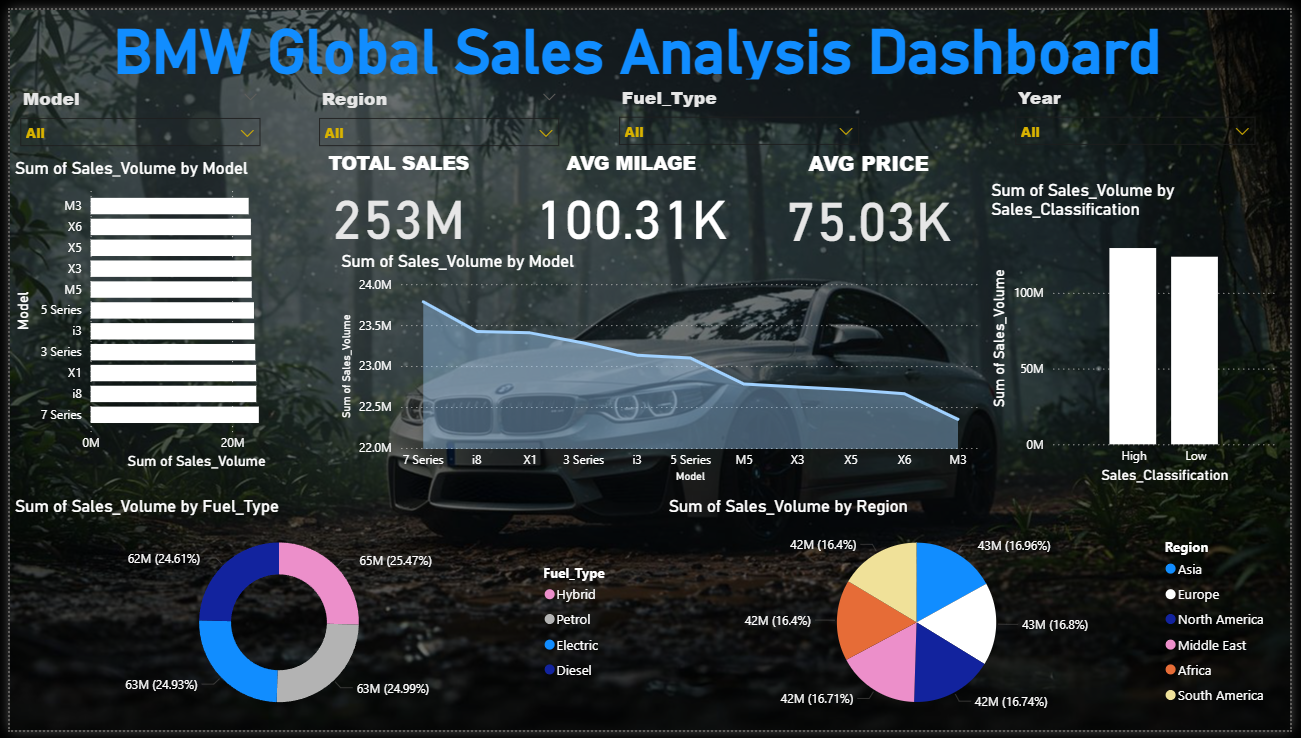

Layout of this report page (visuals, bound fields, positions):
{"tool":"powerbi","page":{"name":"Page 1","canvas":[1280,720],"ordinal":0},"visuals":[{"type":"barChart","fields":{"Category":["BMW sales data_2020 24.Model"],"Y":["Sum(BMW sales data_2020 24.Sales_Volume)"]},"box":[0,147.1,310,317.1],"z":0},{"type":"areaChart","fields":{"Category":["BMW sales data_2020 24.Model"],"Y":["Sum(BMW sales data_2020 24.Sales_Volume)"]},"box":[326.7,241.7,648.3,236.7],"z":1000},{"type":"pieChart","fields":{"Category":["BMW sales data_2020 24.Region"],"Y":["Sum(BMW sales data_2020 24.Sales_Volume)"]},"box":[653.3,486.7,615,233.3],"z":2000},{"type":"donutChart","fields":{"Category":["BMW sales data_2020 24.Fuel_Type"],"Y":["Sum(BMW sales data_2020 24.Sales_Volume)"]},"box":[0,486.7,618.3,233.3],"z":3000},{"type":"clusteredColumnChart","fields":{"Category":["BMW sales data_2020 24.Sales_Classification"],"Y":["Sum(BMW sales data_2020 24.Sales_Volume)"]},"box":[976.7,170,295,308.3],"z":4000},{"type":"slicer","fields":{"Values":["BMW sales data_2020 24.Model"]},"box":[0,71.4,260,68.6],"z":5000},{"type":"slicer","fields":{"Values":["BMW sales data_2020 24.Year"]},"box":[995,70,260,70],"z":6000},{"type":"slicer","fields":{"Values":["BMW sales data_2020 24.Region"]},"box":[298.6,71.4,260,68.6],"z":7000},{"type":"slicer","fields":{"Values":["BMW sales data_2020 24.Fuel_Type"]},"box":[598.3,70,260,70],"z":8000},{"type":"card","title":"TOTAL SALES","fields":{"Values":["BMW sales data_2020 24.TOTAL SALES"]},"box":[278.3,138.3,220,103.3],"z":9000},{"type":"card","title":"AVG MILAGE","fields":{"Values":["BMW sales data_2020 24.AVERAGE MILAGE"]},"box":[501.7,138.3,240,103.3],"z":10000},{"type":"card","title":"AVG PRICE","fields":{"Values":["BMW sales data_2020 24.AVERAGE PRICE"]},"box":[728.3,138.3,260,103.3],"z":11000},{"type":"textbox","title":"BMW Global Sales Analysis Dashboard","box":[0,6.7,1255,63.3],"z":12000}]}

Visuals, with their boxes in screenshot pixels (x1, y1, x2, y2), scaled from the page's 1280x720 canvas onto the 1301x738 screenshot:
barChart - BMW sales data_2020 24.Model x Sum(BMW sales data_2020 24.Sales_Volume): {"x1": 0, "y1": 151, "x2": 315, "y2": 476}
areaChart - BMW sales data_2020 24.Model x Sum(BMW sales data_2020 24.Sales_Volume): {"x1": 332, "y1": 248, "x2": 991, "y2": 490}
pieChart - BMW sales data_2020 24.Region x Sum(BMW sales data_2020 24.Sales_Volume): {"x1": 664, "y1": 499, "x2": 1289, "y2": 737}
donutChart - BMW sales data_2020 24.Fuel_Type x Sum(BMW sales data_2020 24.Sales_Volume): {"x1": 0, "y1": 499, "x2": 628, "y2": 737}
clusteredColumnChart - BMW sales data_2020 24.Sales_Classification x Sum(BMW sales data_2020 24.Sales_Volume): {"x1": 993, "y1": 174, "x2": 1293, "y2": 490}
slicer - BMW sales data_2020 24.Model: {"x1": 0, "y1": 73, "x2": 264, "y2": 144}
slicer - BMW sales data_2020 24.Year: {"x1": 1011, "y1": 72, "x2": 1276, "y2": 144}
slicer - BMW sales data_2020 24.Region: {"x1": 303, "y1": 73, "x2": 568, "y2": 144}
slicer - BMW sales data_2020 24.Fuel_Type: {"x1": 608, "y1": 72, "x2": 872, "y2": 144}
"TOTAL SALES" card: {"x1": 283, "y1": 142, "x2": 506, "y2": 248}
"AVG MILAGE" card: {"x1": 510, "y1": 142, "x2": 754, "y2": 248}
"AVG PRICE" card: {"x1": 740, "y1": 142, "x2": 1005, "y2": 248}
"BMW Global Sales Analysis Dashboard" textbox: {"x1": 0, "y1": 7, "x2": 1276, "y2": 72}
